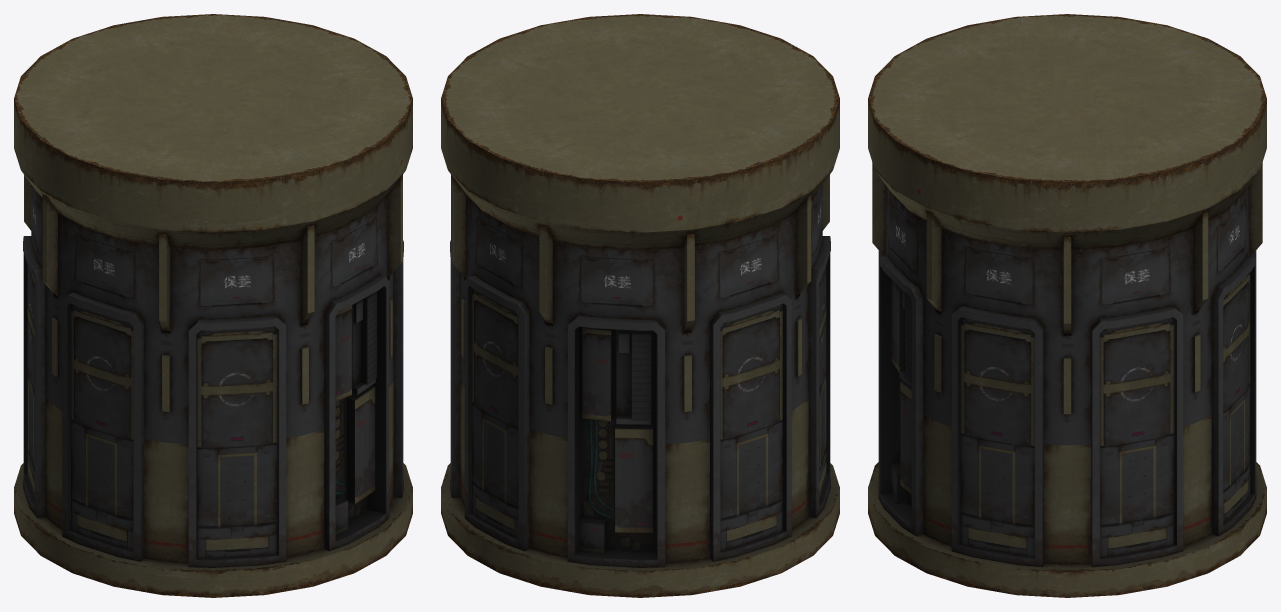
File: cylinder_data_large.DAE
The picture shows the model from 3 angles, left to right: view 1: azimuth 30°, elevation 25°; view 2: azimuth 150°, elevation 25°; view 3: azimuth 270°, elevation 25°; orthographic projection.
Visible parts, largest first — view 1: cylinder_data_large; view 2: cylinder_data_large; view 3: cylinder_data_large.
Part boxes in pixels (box(x1,y1,x2,y2)): cylinder_data_large: box(14, 14, 412, 597); cylinder_data_large: box(441, 14, 839, 597); cylinder_data_large: box(868, 14, 1266, 597).
Size of the model in its own units: 269 by 269 by 310.
